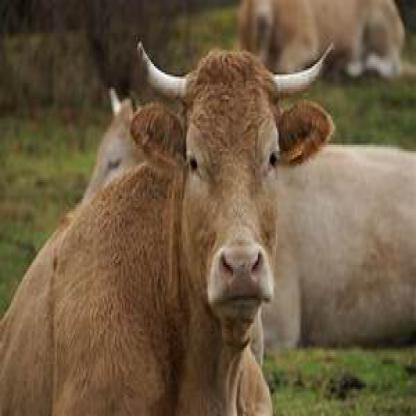cow: (0, 41, 337, 414)
